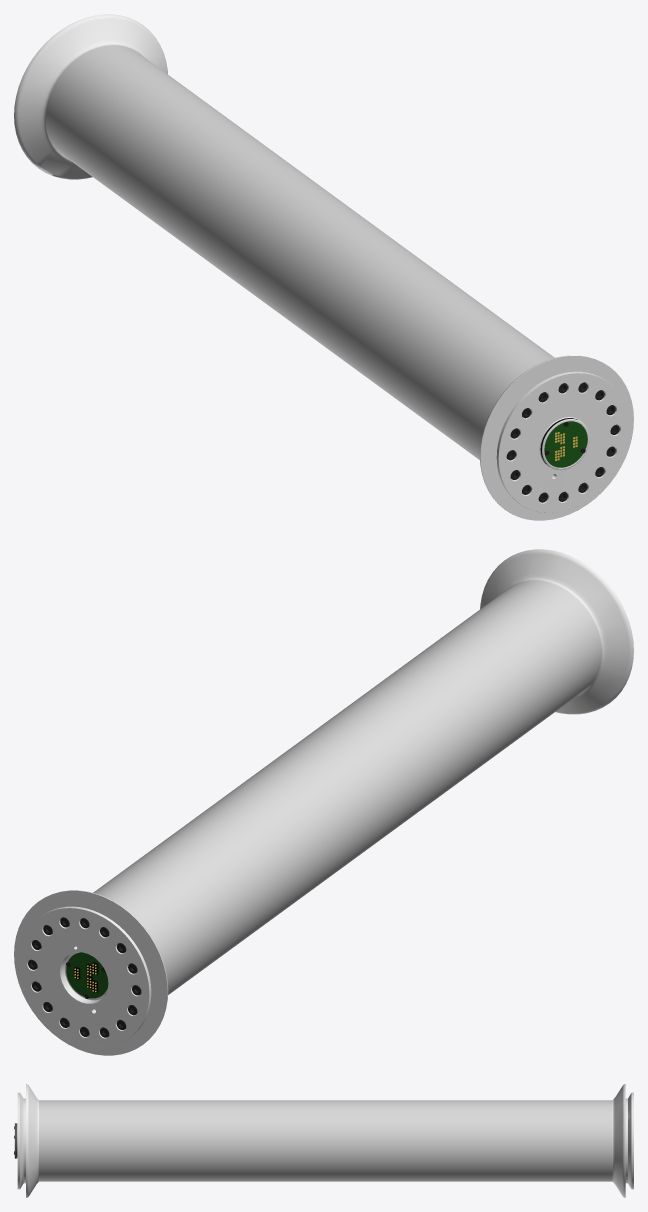
3 renders of one model, top to bottom at view 1: azimuth 30°, elevation 25°; view 2: azimuth 150°, elevation 25°; view 3: azimuth 270°, elevation 25°, orthographic. The views are drawn at different scales.
Visible parts, largest first — view 1: I148.001; view 2: I148.001; view 3: I148.001.
Part boxes in pixels (x1=…): I148.001: x1=14, y1=14, x2=633, y2=520; I148.001: x1=14, y1=549, x2=633, y2=1055; I148.001: x1=14, y1=1084, x2=633, y2=1197.
Size of the model in its own units: 0.148 by 0.1477 by 0.8046.
